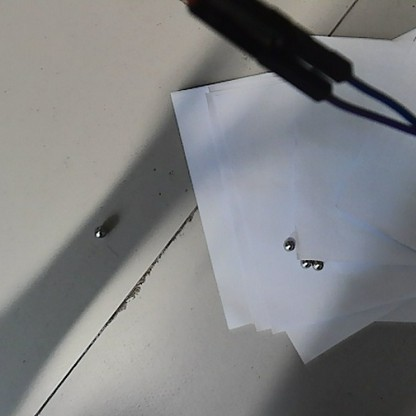ironball: (90, 223, 108, 240), (308, 257, 325, 273), (279, 234, 296, 249), (299, 255, 312, 272)
